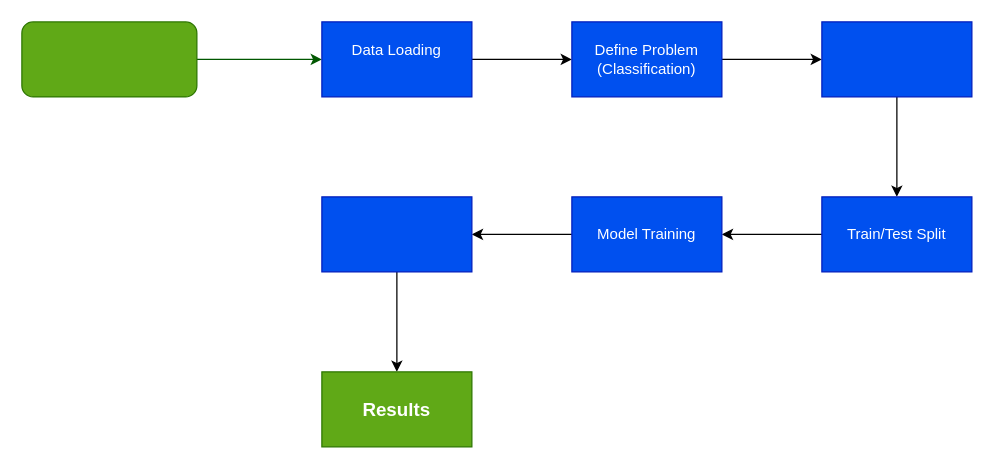
Image size: 994x469. Some labels were removed from this diagram. Here are the shapes that lost their labels. From the top down, the centre of each, then its label:
point 109,59: Dataset Selection
point 896,59: Preprocessing
point 396,234: Evaluation
